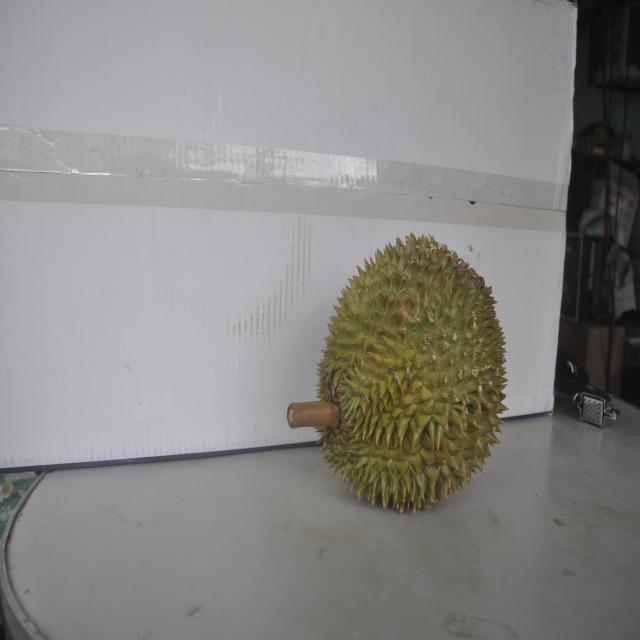mature: (314, 230, 510, 513)
